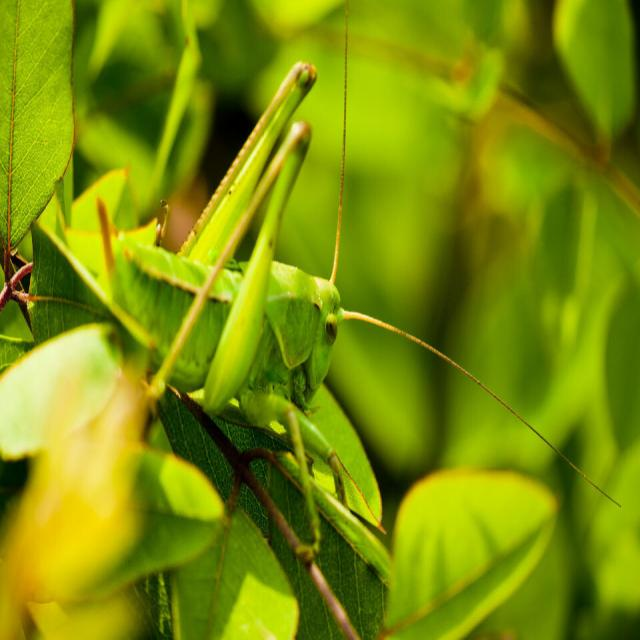ZhaMeng: (111, 51, 382, 450)
